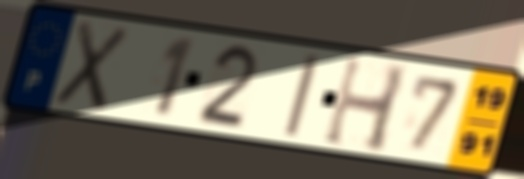1: (147, 34, 199, 118)
2: (194, 41, 264, 131)
7: (407, 73, 463, 151)
H: (319, 53, 413, 156)
I: (280, 51, 324, 139)
X: (50, 17, 134, 114)
